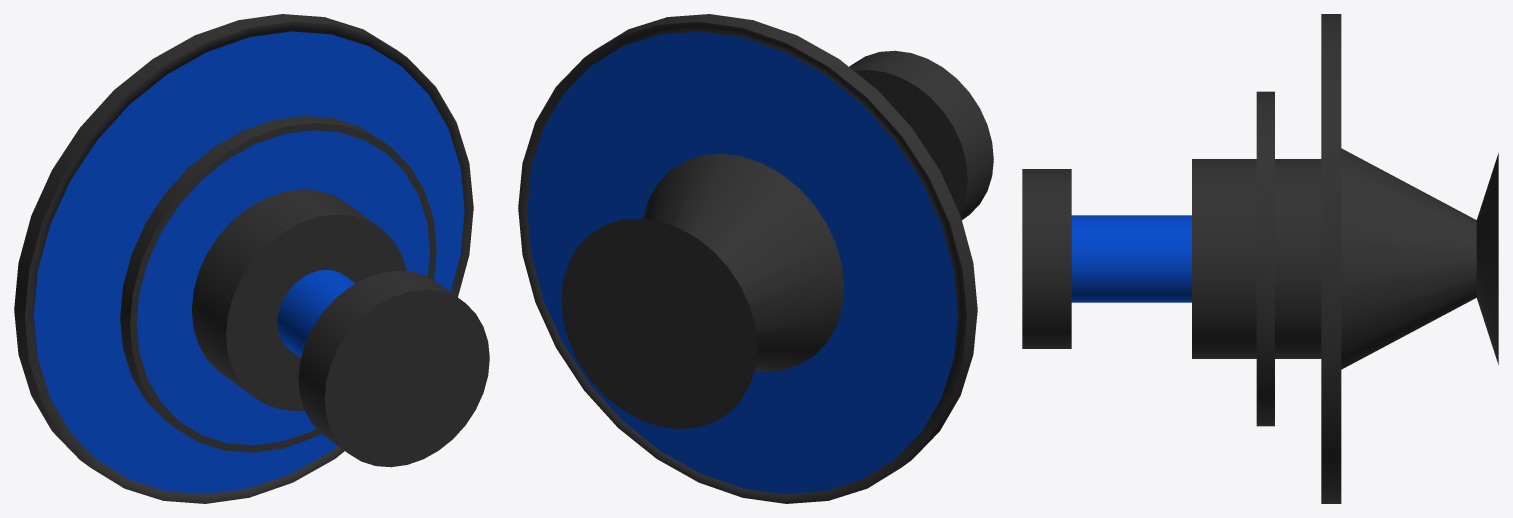
Rendered from TableBig.fbx.
3 views of the same model, side by side, from view 1: azimuth 30°, elevation 25°; view 2: azimuth 150°, elevation 25°; view 3: azimuth 270°, elevation 25° (orthographic). The views are drawn at different scales.
Parts seen in each view (by area): view 1: Cylinder.000; view 2: Cylinder.000; view 3: Cylinder.000.
Boxes of the visible parts, x1,y1,x2,y2 form: Cylinder.000: [14, 14, 489, 503]; Cylinder.000: [518, 14, 993, 503]; Cylinder.000: [1022, 14, 1498, 503].
Size of the model in its own units: 4.56 by 4.56 by 4.43.
